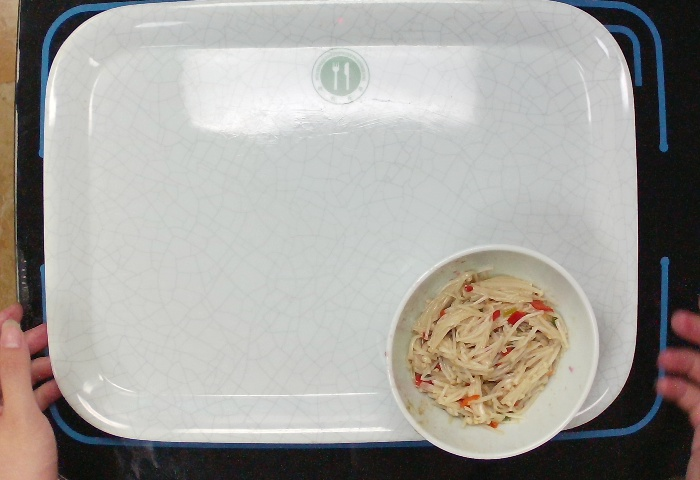JYsf-Fan_Wan: (381, 240, 602, 463)
